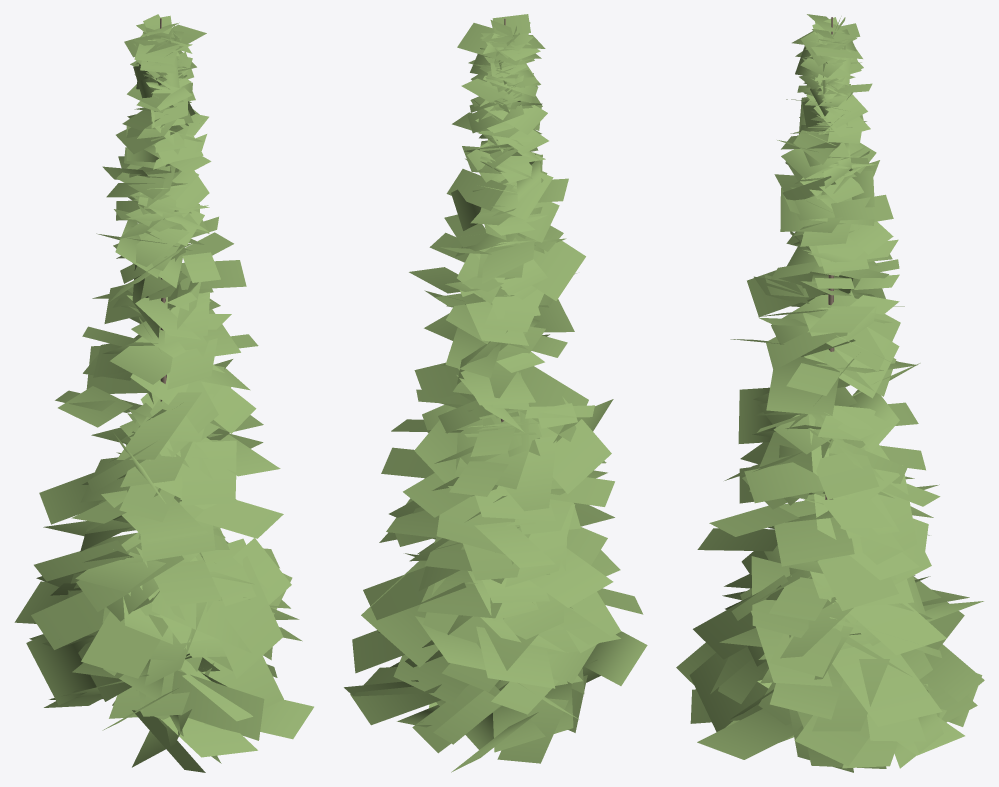
The model's file is Conifer_12_young_lod2.glb.
3 renders of one model, left to right at view 1: azimuth 30°, elevation 25°; view 2: azimuth 150°, elevation 25°; view 3: azimuth 270°, elevation 25°, orthographic.
Parts seen in each view (by area): view 1: Conifer_12_young_lod2; view 2: Conifer_12_young_lod2; view 3: Conifer_12_young_lod2.
Boxes of the visible parts, <box> form: Conifer_12_young_lod2: <box>14,14,313,772</box>; Conifer_12_young_lod2: <box>344,14,647,772</box>; Conifer_12_young_lod2: <box>676,14,984,772</box>.
Size of the model in its own units: 2.65 by 7.58 by 2.89.
